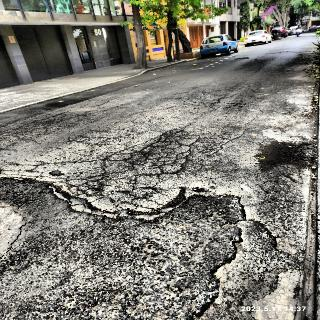alligator-crack: (66, 122, 197, 212)
